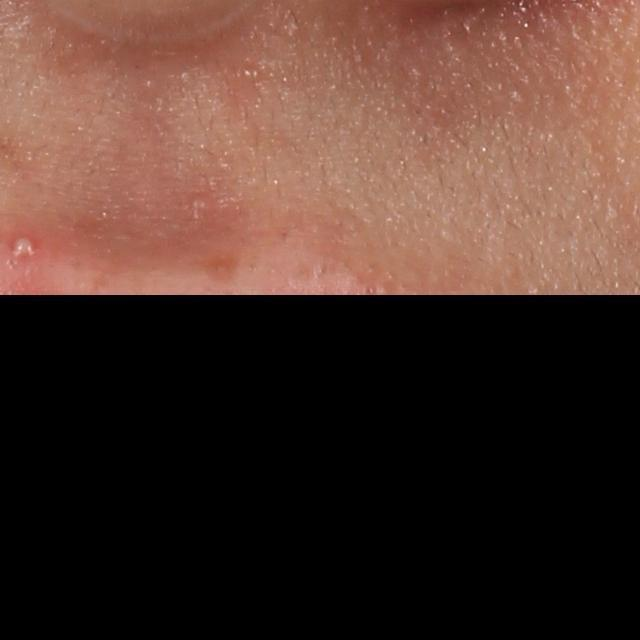pustule: (4, 233, 40, 267), (188, 194, 213, 214)
